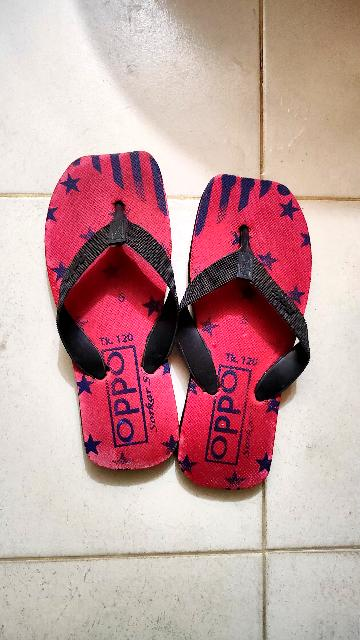sandal: (151, 167, 323, 510), (30, 153, 199, 469)
